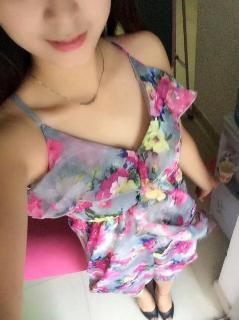sling: (10, 36, 217, 297)
